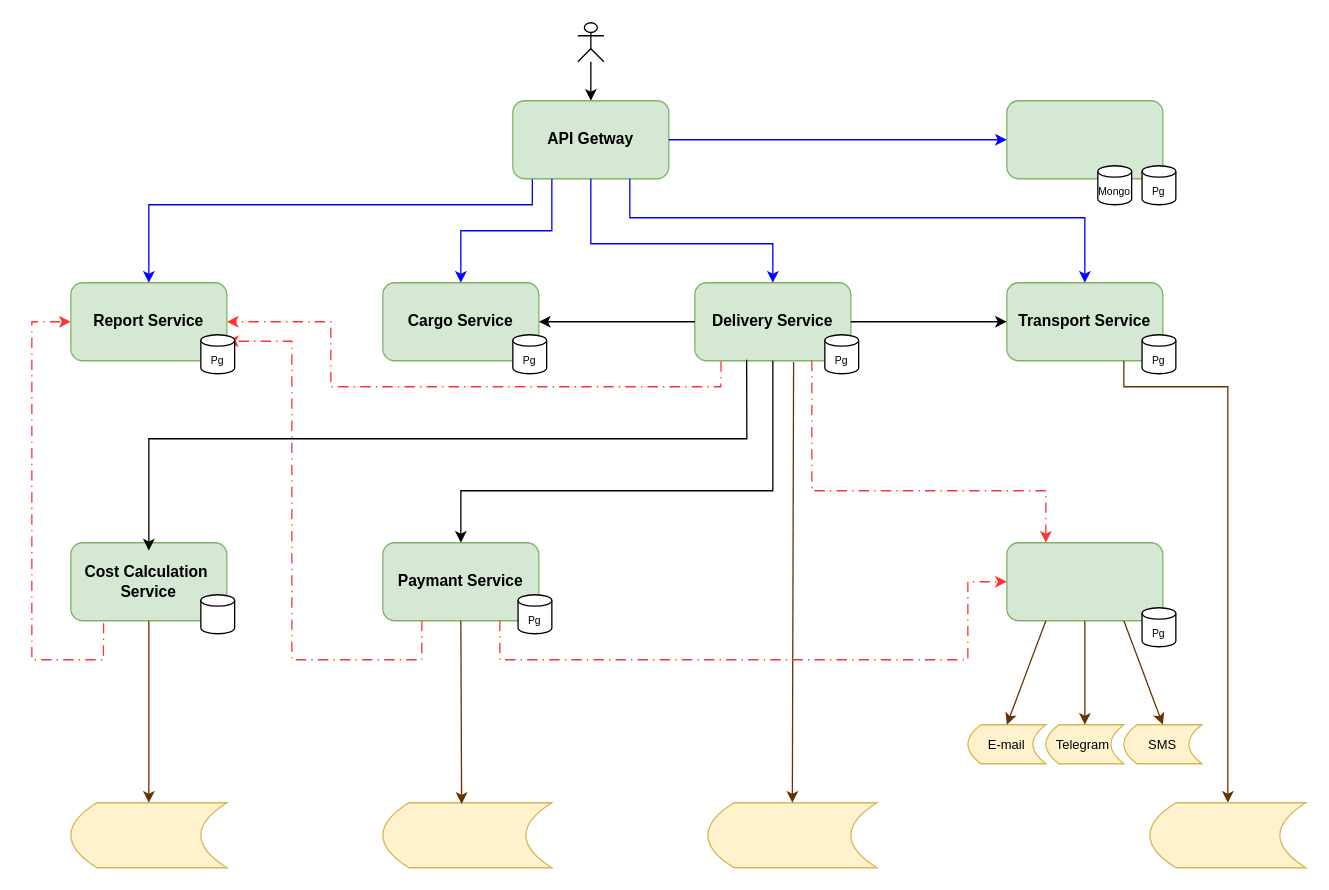
The diagram is 1329 pixels wide and 890 high, and some of its shapes have lost their labels. The shapes that lost their labels are listed below. From the top down, each one's centre as x and y in pixels, then its label:
the point at 590,41: User
the point at 1084,139: User Service
the point at 1084,581: Notification Service
the point at 217,613: Redis
the point at 148,834: Актуализация ценовых ставок
the point at 467,834: Банковская система проведения платежей
the point at 792,834: Обновление местоположения груза
the point at 1227,834: Актуализация существующего транспорта
